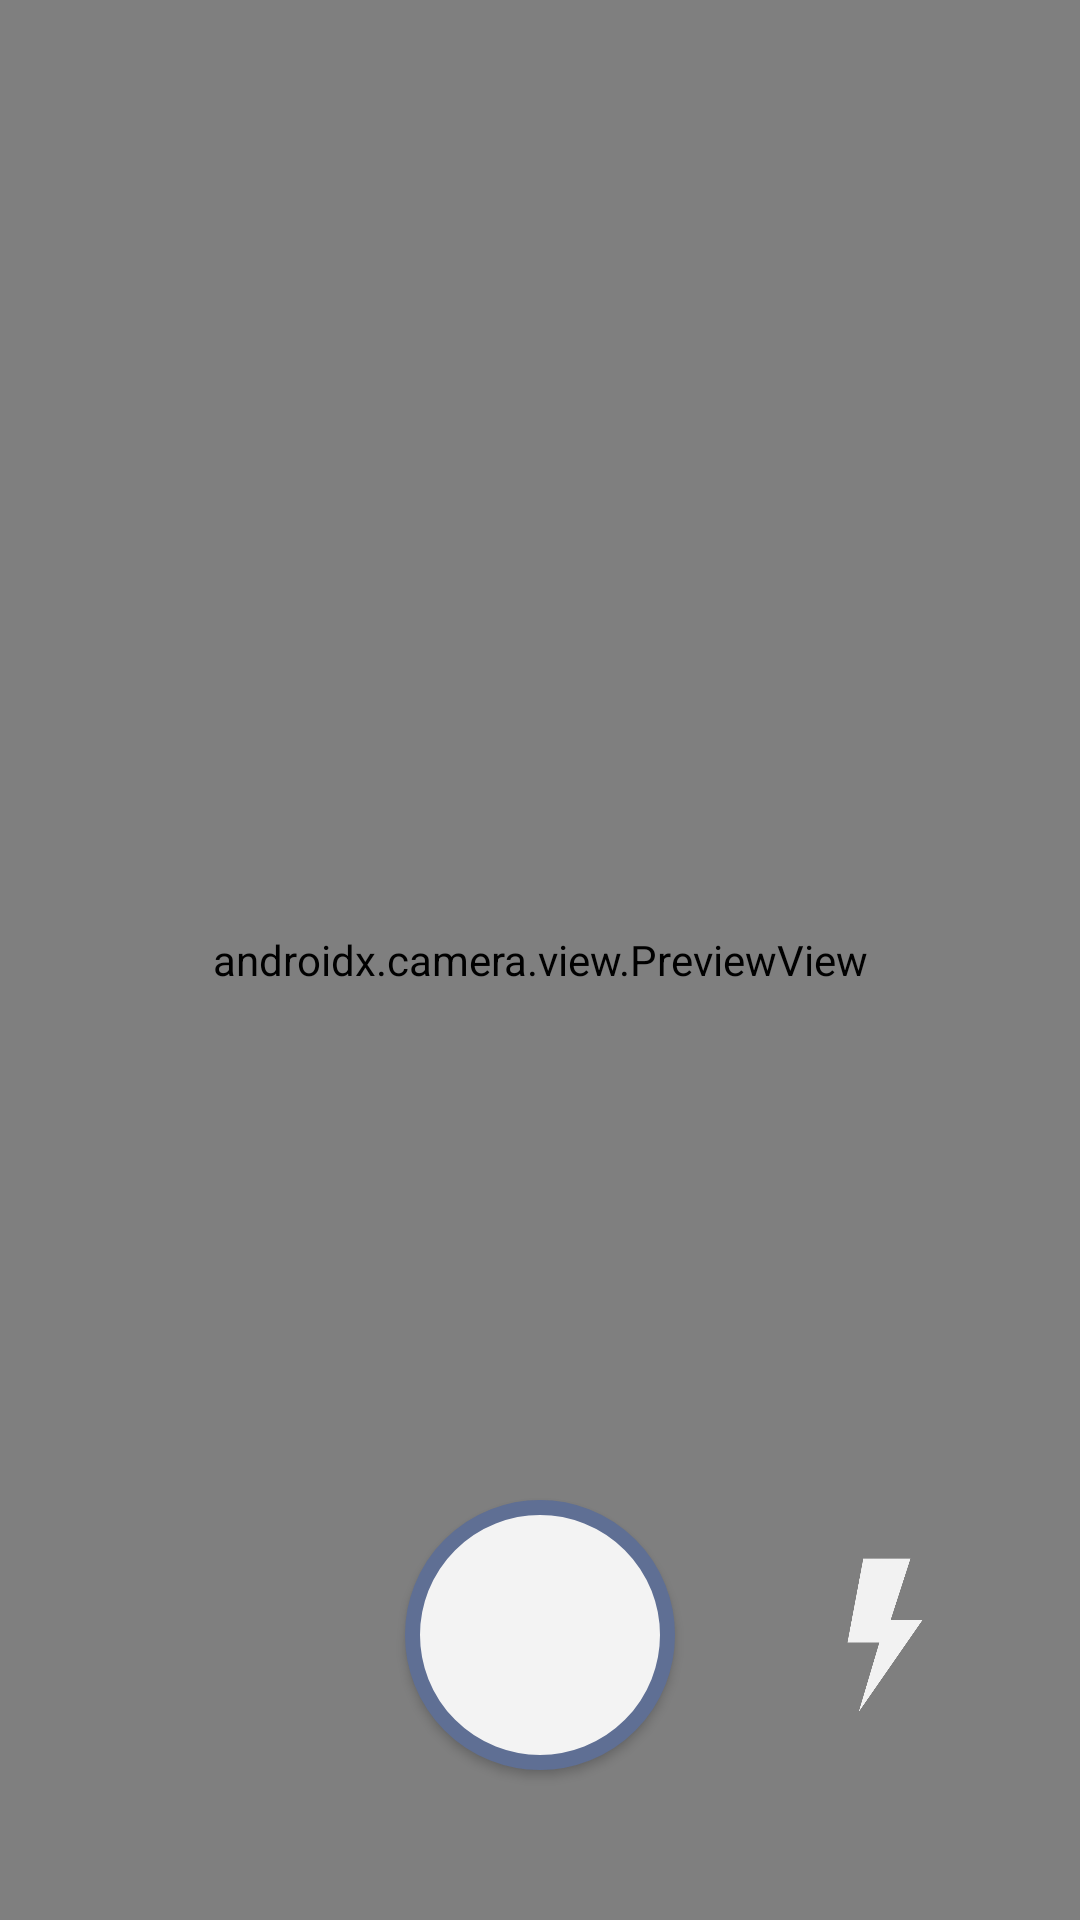

Locate icon controls on the screen. Image size 1080×1920, boxes as [left=x1, top=y1, right=x2, bottom=y2].
flashicon: [left=848, top=1558, right=922, bottom=1711]
